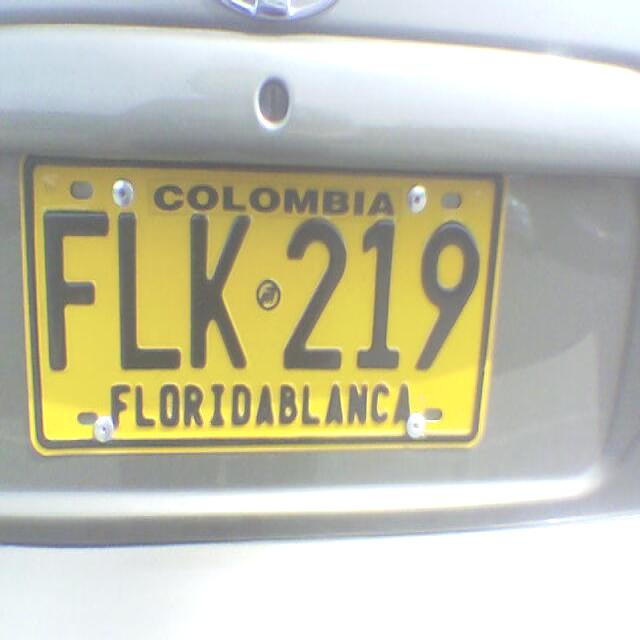placa: (18, 145, 510, 456)
